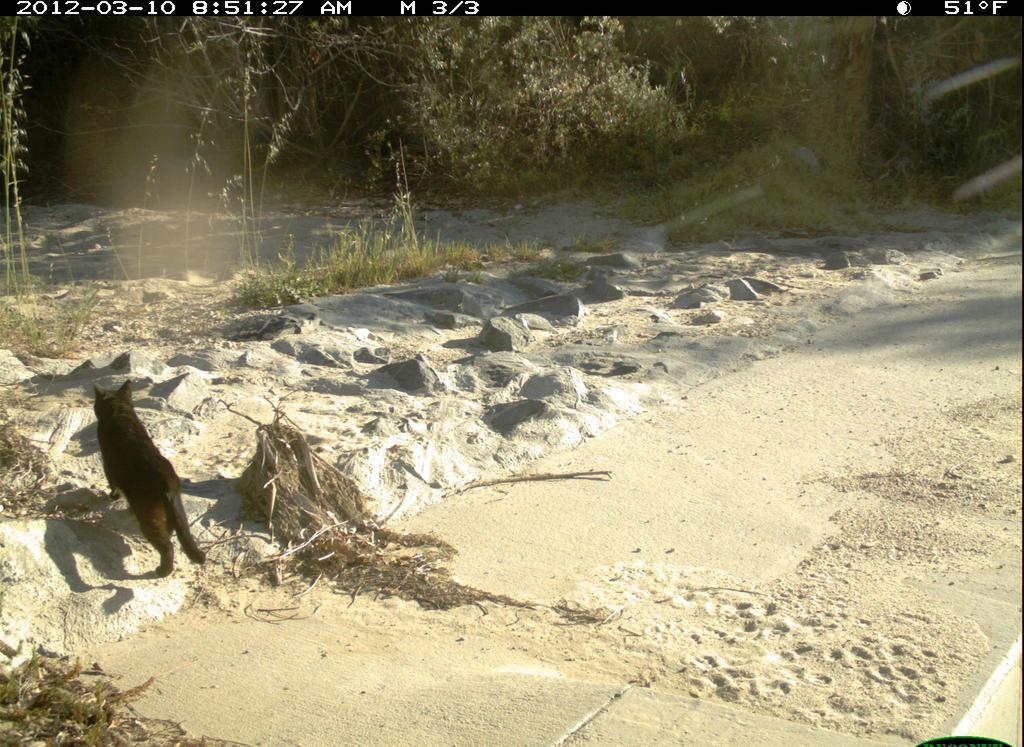cat: (82, 365, 213, 594)
